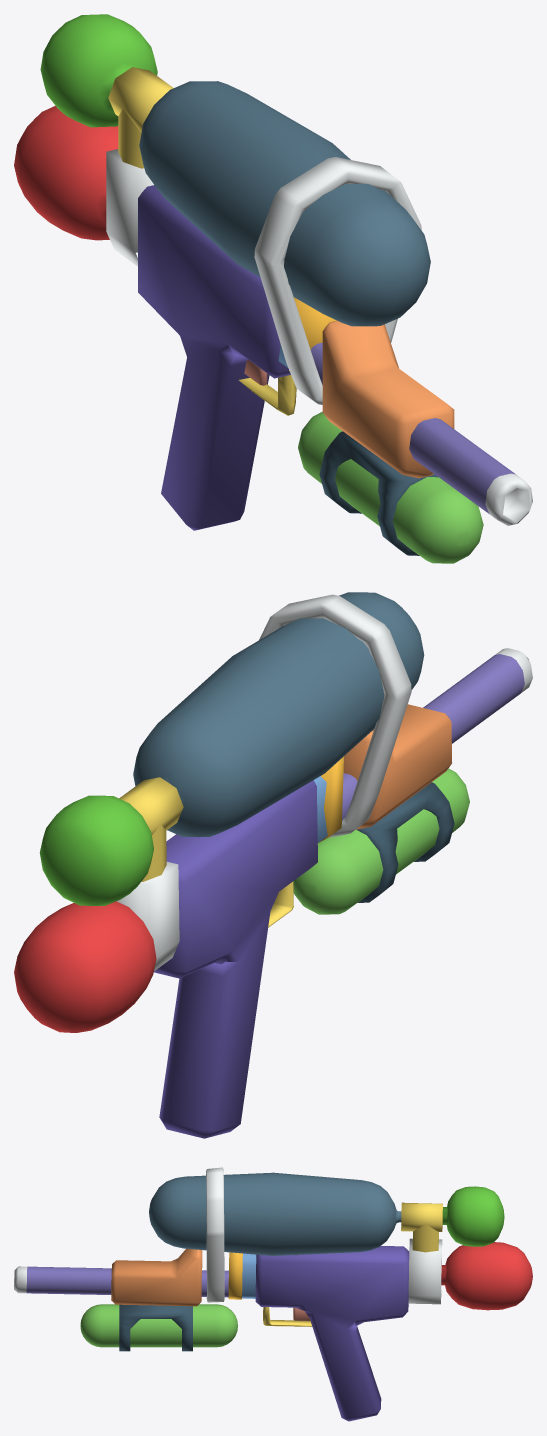
File: Watergun13.fbx
3 renders of one model, top to bottom at view 1: azimuth 30°, elevation 25°; view 2: azimuth 150°, elevation 25°; view 3: azimuth 270°, elevation 25°, orthographic. The views are drawn at different scales.
Visible parts, largest first — view 1: Watergun13; view 2: Watergun13; view 3: Watergun13.
Part boxes in pixels (x1,y1,x2,y2): Watergun13: [14, 14, 532, 563]; Watergun13: [14, 592, 532, 1138]; Watergun13: [14, 1167, 532, 1421].
Bounding box in the file's own units: 0.0865 × 0.2454 × 0.47.
